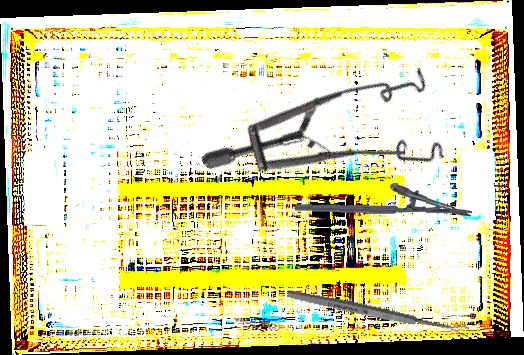Needle Holder: (294, 178, 473, 219)
Speculum: (199, 15, 473, 277)
Surgical Spoon: (286, 288, 470, 338)
